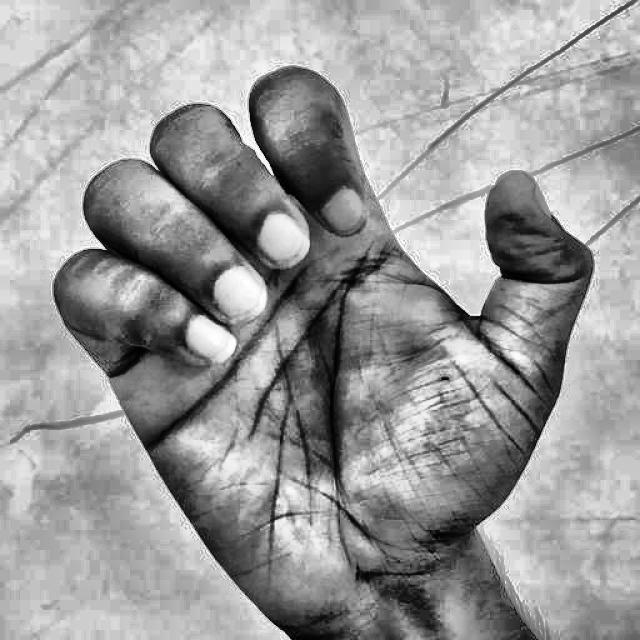Dho: (32, 46, 607, 611)
